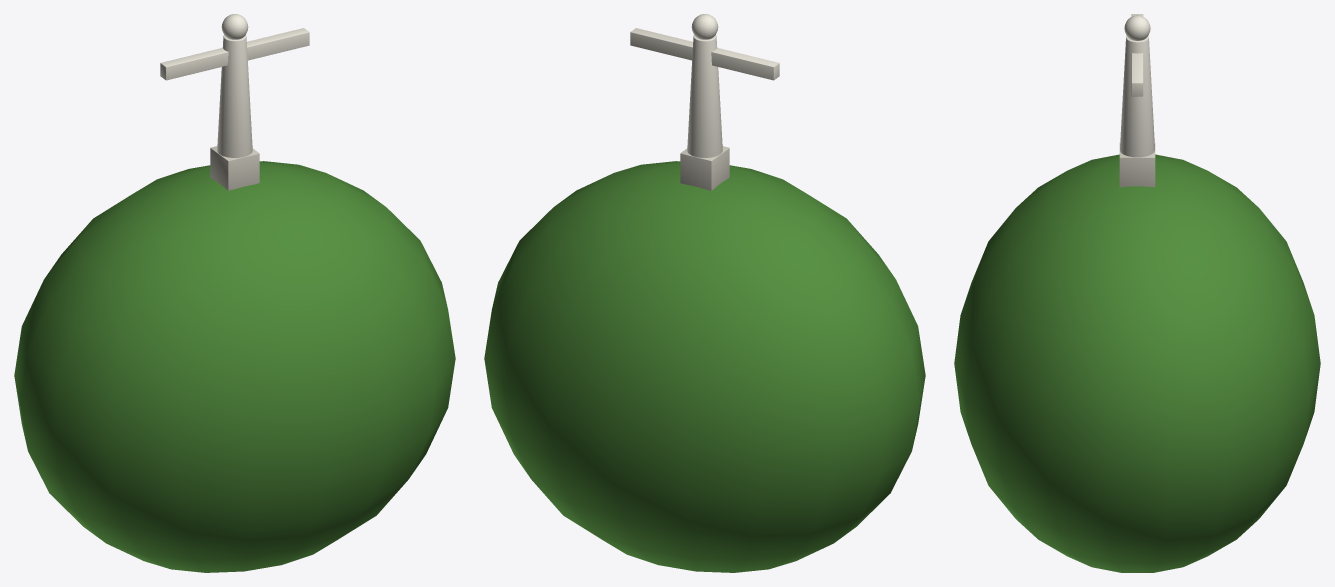
Rendered from marco_cristo.glb.
3 views of the same model, side by side, from view 1: azimuth 30°, elevation 25°; view 2: azimuth 150°, elevation 25°; view 3: azimuth 270°, elevation 25° (orthographic).
Visible parts, largest first — view 1: marco_cristo; view 2: marco_cristo; view 3: marco_cristo.
Boxes of the visible parts, x1=… form: marco_cristo: x1=14, y1=14, x2=455, y2=572; marco_cristo: x1=484, y1=14, x2=925, y2=572; marco_cristo: x1=954, y1=14, x2=1320, y2=572.
Size of the model in its own units: 27.57 by 36 by 22.4.
